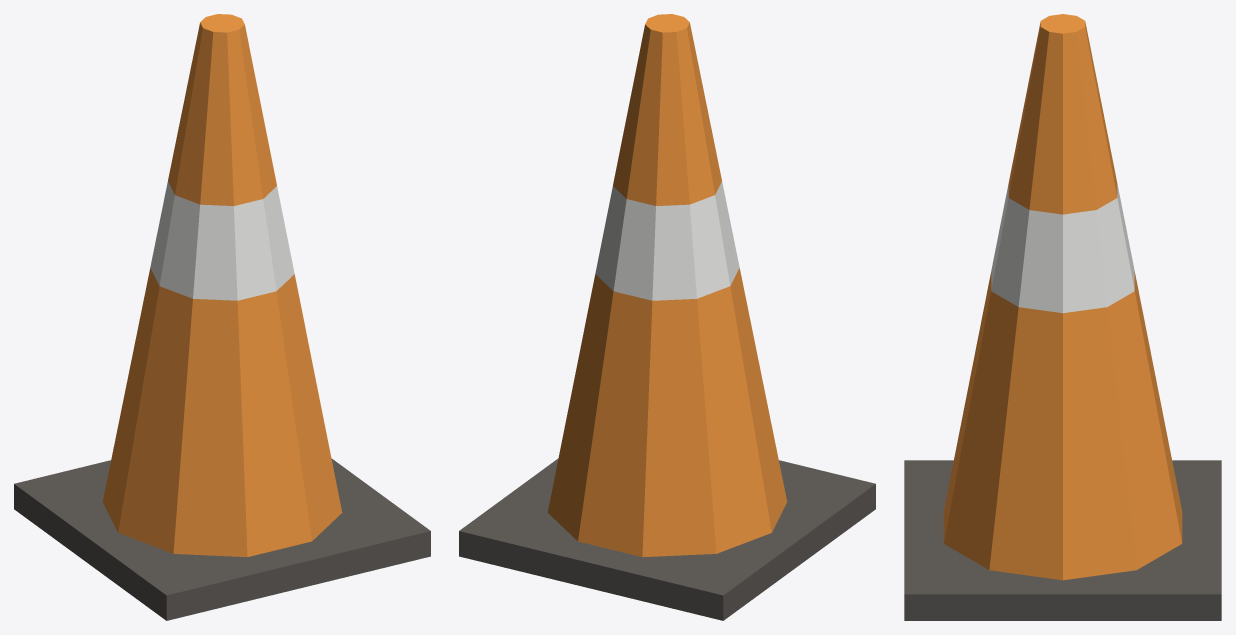
3 views of the same model, side by side, from view 1: azimuth 30°, elevation 25°; view 2: azimuth 150°, elevation 25°; view 3: azimuth 270°, elevation 25° (orthographic). The views are drawn at different scales.
Visible parts, largest first — view 1: Cone; view 2: Cone; view 3: Cone.
Part boxes in pixels (x1=…): Cone: x1=14, y1=14, x2=430, y2=620; Cone: x1=459, y1=14, x2=875, y2=620; Cone: x1=904, y1=14, x2=1221, y2=620.
Bounding box in the file's own units: 0.38 × 0.7 × 0.38.
